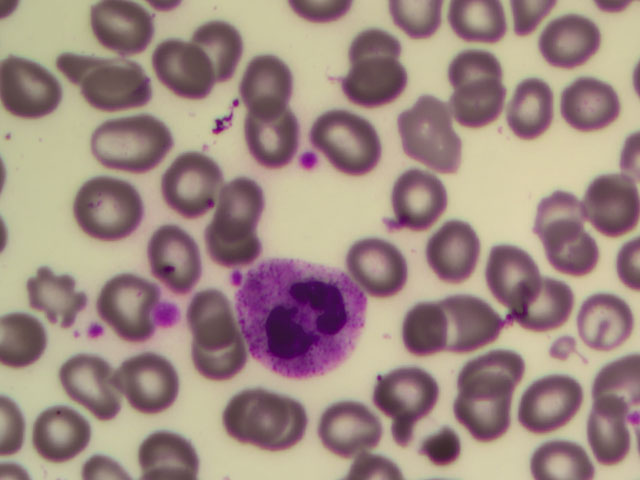Platelets: (156, 302, 175, 323), (86, 324, 113, 338), (623, 409, 640, 431), (301, 151, 317, 171)
RBC: (87, 59, 150, 121), (143, 38, 206, 100), (192, 21, 255, 83), (236, 54, 299, 116), (243, 105, 306, 167), (164, 145, 227, 207), (97, 113, 160, 175), (74, 175, 137, 237), (210, 168, 273, 230), (202, 211, 265, 273), (141, 237, 204, 299), (95, 267, 158, 329), (26, 265, 89, 327), (59, 352, 122, 414), (38, 400, 101, 462), (100, 356, 163, 418), (130, 418, 193, 480), (204, 378, 267, 440), (242, 387, 305, 449), (171, 323, 234, 385), (173, 282, 236, 344), (318, 397, 381, 459), (371, 362, 434, 424), (386, 300, 449, 362), (433, 290, 496, 352), (349, 235, 412, 297), (390, 170, 453, 232), (309, 112, 372, 174), (341, 54, 404, 116), (337, 26, 400, 88), (434, 23, 497, 85), (447, 64, 510, 126), (405, 102, 468, 164), (496, 72, 559, 134), (561, 73, 624, 135), (549, 15, 612, 77), (577, 170, 640, 232), (541, 180, 604, 242), (539, 214, 602, 276), (477, 246, 540, 308), (509, 270, 572, 332), (434, 223, 497, 285), (577, 290, 640, 352), (526, 375, 589, 437), (459, 377, 522, 439), (460, 340, 523, 402), (577, 336, 640, 398), (1, 56, 63, 118), (92, 1, 155, 62)
WBC: (234, 259, 368, 377)
